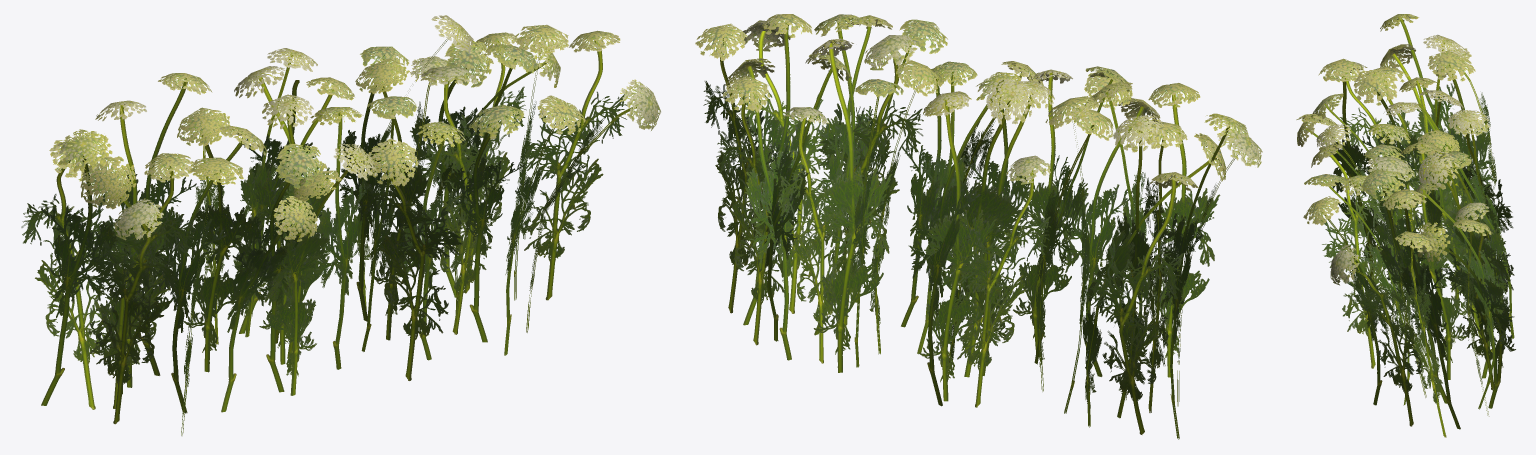
Rendered from NaturePlant07_7.FBX.
3 views of the same model, side by side, from view 1: azimuth 30°, elevation 25°; view 2: azimuth 150°, elevation 25°; view 3: azimuth 270°, elevation 25° (orthographic). The views are drawn at different scales.
Parts seen in each view (by area): view 1: NaturePlant07_7; view 2: NaturePlant07_7; view 3: NaturePlant07_7.
Part boxes in pixels (<box>): NaturePlant07_7: <box>21,15,660,435</box>; NaturePlant07_7: <box>695,14,1262,439</box>; NaturePlant07_7: <box>1296,14,1515,437</box>.
Size of what is drawn, in the model's own units: 1.98 by 1.05 by 0.8584.
